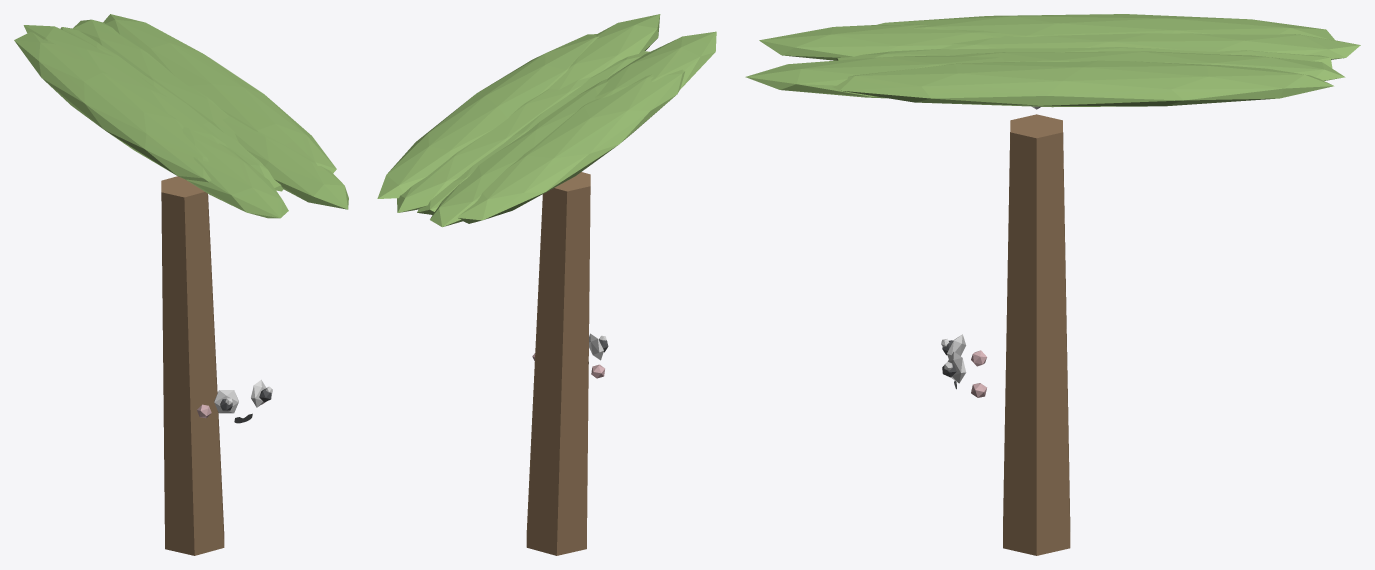
File: areca-catechu.glb
The picture shows the model from 3 angles, left to right: view 1: azimuth 30°, elevation 25°; view 2: azimuth 150°, elevation 25°; view 3: azimuth 270°, elevation 25°; orthographic projection. The views are drawn at different scales.
Visible parts, largest first — view 1: trunk, frond3, frond0, frond2, frond1, frond6, frond4, frond5; view 2: trunk, frond3, frond0, frond6, frond4, frond2, frond1, frond5; view 3: trunk, frond0, frond3, frond4, frond2, frond1, frond6, frond5.
Part boxes in pixels (box(x1,y1,x2,y2)): trunk: box(161, 176, 224, 555); frond3: box(14, 32, 211, 182); frond0: box(103, 14, 336, 173); frond2: box(182, 127, 288, 218); frond1: box(223, 115, 348, 209); frond6: box(73, 19, 238, 142); frond4: box(23, 25, 228, 147); frond5: box(60, 27, 283, 191); trunk: box(526, 172, 590, 555); frond3: box(457, 69, 685, 223); frond0: box(377, 34, 598, 198); frond6: box(397, 76, 592, 212); frond4: box(430, 78, 608, 227); frond2: box(595, 31, 716, 99); frond1: box(547, 14, 660, 89); frond5: box(417, 51, 649, 214); trunk: box(1003, 114, 1070, 555); frond0: box(833, 60, 1333, 107); frond3: box(876, 14, 1335, 40); frond4: box(940, 33, 1360, 59); frond2: box(759, 24, 1004, 60); frond1: box(745, 55, 1008, 98); frond6: box(946, 51, 1345, 80); frond5: box(836, 47, 1332, 68).
Bounding box in the file's own units: 0.2324 × 0.6303 × 0.7102.
